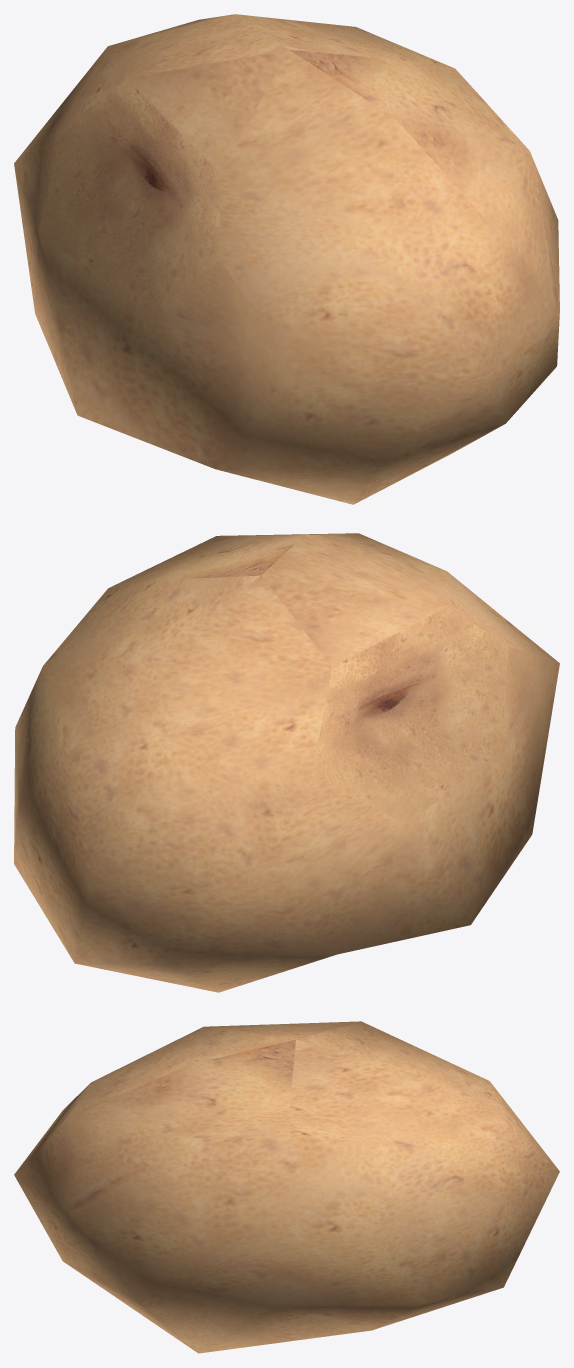
The model's file is potato.fbx.
3 renders of one model, top to bottom at view 1: azimuth 30°, elevation 25°; view 2: azimuth 150°, elevation 25°; view 3: azimuth 270°, elevation 25°, orthographic. The views are drawn at different scales.
Visible parts, largest first — view 1: Icosphere; view 2: Icosphere; view 3: Icosphere.
Part boxes in pixels (box(x1,y1,x2,y2)): Icosphere: box(14, 14, 559, 504); Icosphere: box(14, 533, 559, 992); Icosphere: box(14, 1021, 559, 1353).
Bounding box in the file's own units: 180 × 155 × 275.
